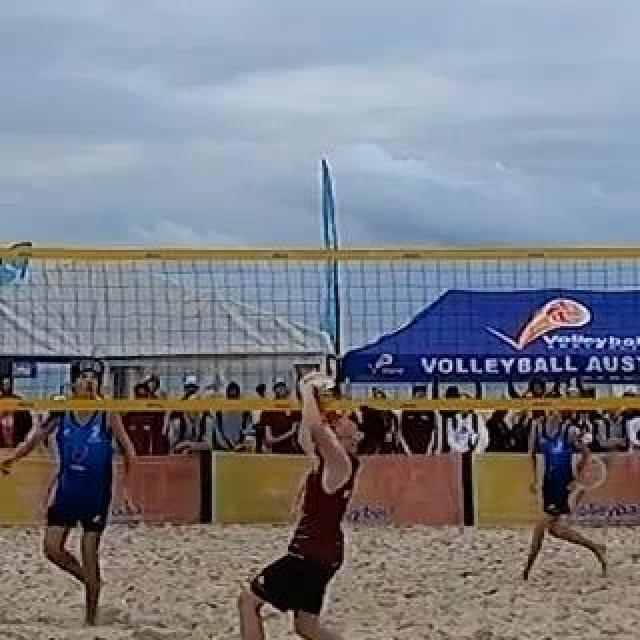volleyball: (296, 370, 336, 412)
